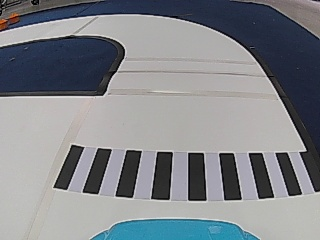CrossWalk: (53, 146, 320, 200)
